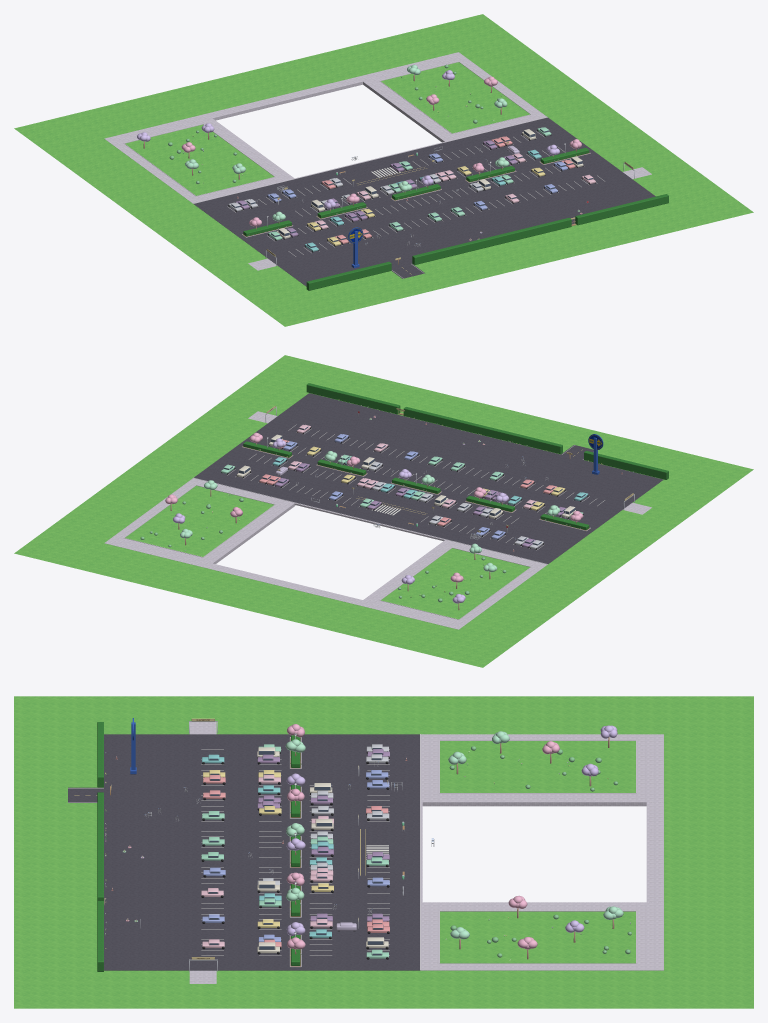
The model's file is parking_lot.glb.
3 renders of one model, top to bottom at view 1: azimuth 30°, elevation 25°; view 2: azimuth 150°, elevation 25°; view 3: azimuth 270°, elevation 25°, orthographic. The views are drawn at different scales.
Parts seen in each view (by area): view 1: Grass, Asphalt, Paving, Hedge, Kerb, Car_Glass, Paint_White, Leaf_Mint, Leaf_Pink, Car_Mint, Car_Plum, Leaf_Lilac (+3 smaller); view 2: Grass, Asphalt, Paving, Hedge, Kerb, Car_Glass, Paint_White, Leaf_Pink, Leaf_Mint, Car_Silver, Car_Plum, Leaf_Lilac (+2 smaller); view 3: Grass, Asphalt, Paving, Hedge, Kerb, Paint_White, Car_Glass, Leaf_Mint, Leaf_Pink, Car_Plum, Car_Mint, Leaf_Lilac (+8 smaller).
Boxes of the visible parts, x1,y1,x2,y2 form: Grass: [14, 14, 753, 326]; Asphalt: [194, 117, 655, 286]; Paving: [104, 52, 651, 270]; Hedge: [243, 147, 668, 290]; Kerb: [124, 61, 590, 237]; Car_Glass: [231, 129, 592, 247]; Paint_White: [227, 131, 604, 278]; Leaf_Mint: [185, 64, 579, 239]; Leaf_Pink: [181, 76, 582, 240]; Car_Mint: [268, 127, 551, 240]; Car_Plum: [235, 140, 517, 236]; Leaf_Lilac: [137, 70, 559, 233]; Grass: [14, 355, 753, 667]; Asphalt: [194, 393, 663, 563]; Paving: [104, 411, 651, 629]; Hedge: [243, 383, 668, 529]; Kerb: [124, 446, 590, 619]; Car_Glass: [224, 426, 585, 545]; Paint_White: [227, 424, 604, 550]; Leaf_Pink: [165, 416, 583, 582]; Leaf_Mint: [180, 418, 560, 572]; Car_Silver: [368, 461, 543, 549]; Car_Plum: [275, 463, 566, 547]; Leaf_Lilac: [173, 438, 508, 603]; Grass: [14, 696, 753, 1008]; Asphalt: [68, 734, 420, 970]; Paving: [189, 722, 663, 983]; Hedge: [97, 722, 300, 971]; Kerb: [289, 734, 636, 970]; Paint_White: [68, 749, 389, 955]; Car_Glass: [208, 748, 383, 955]; Leaf_Mint: [122, 731, 623, 939]; Leaf_Pink: [125, 724, 559, 949]; Car_Plum: [257, 749, 389, 921]; Car_Mint: [201, 744, 388, 958]; Leaf_Lilac: [140, 725, 617, 936].
Size of what is drawn, in the model's own units: 164 by 14.06 by 164.
Materials: 42 (6 with a texture image).
